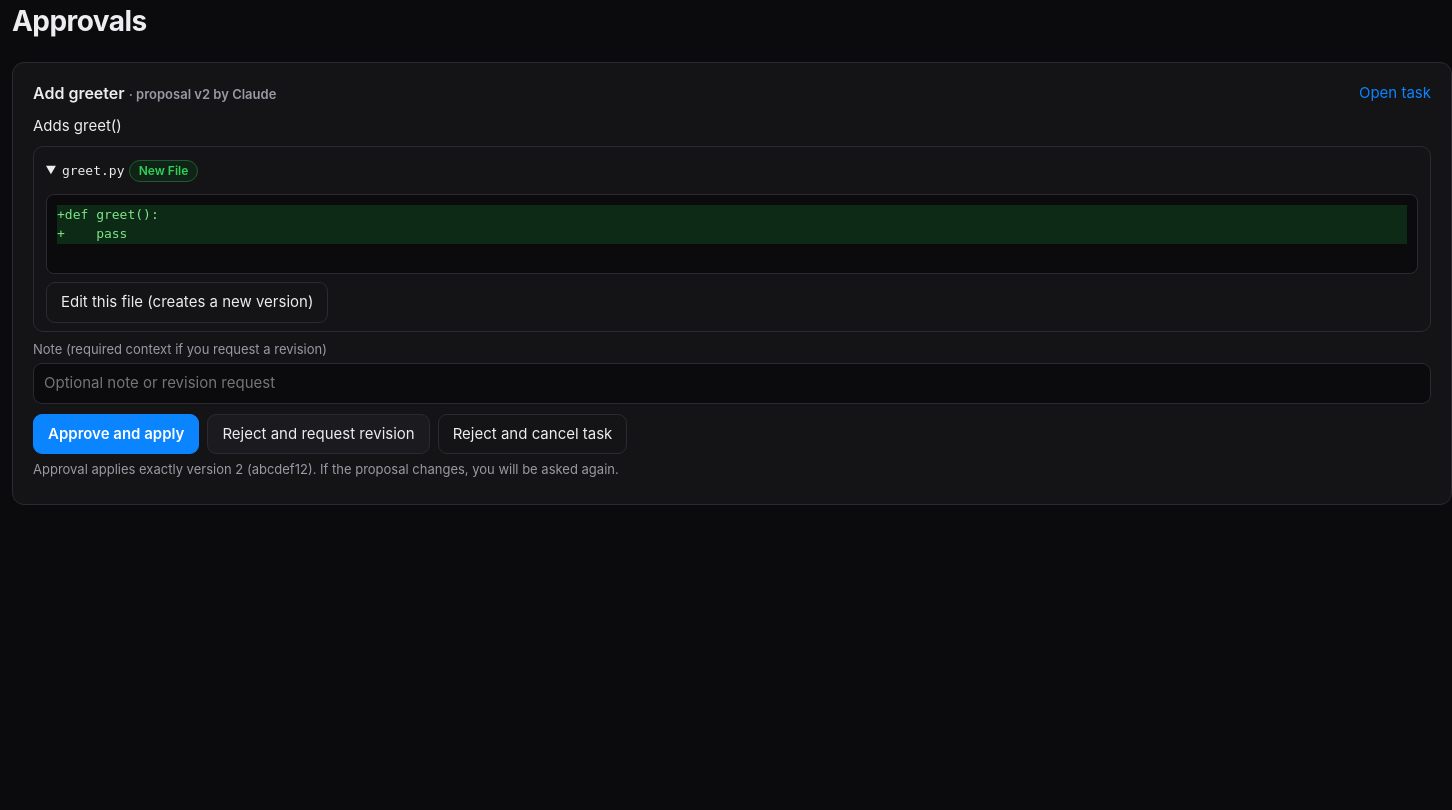
Test: Approvals › shows the server's message when the proposal changed (409) and does not hide it
expect the text "greet.py" is shown: met, box x1=62 y1=162 x2=124 y2=178
Step 1. Click the button "Approve and apply" → click(116, 434), box x1=33 y1=414 x2=199 y2=454
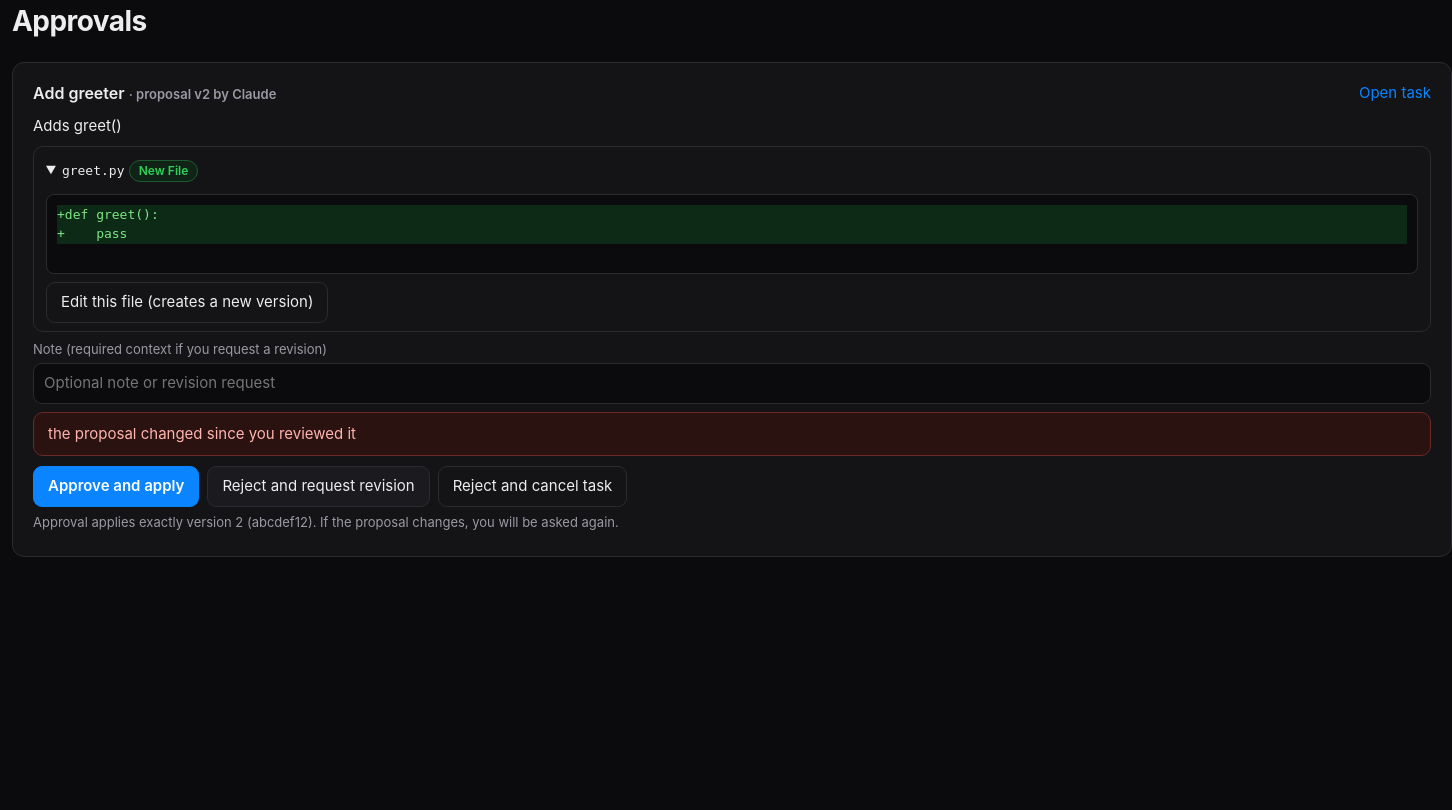
expect the text "the proposal changed since you reviewed it" is shown: met, box x1=48 y1=422 x2=356 y2=445
